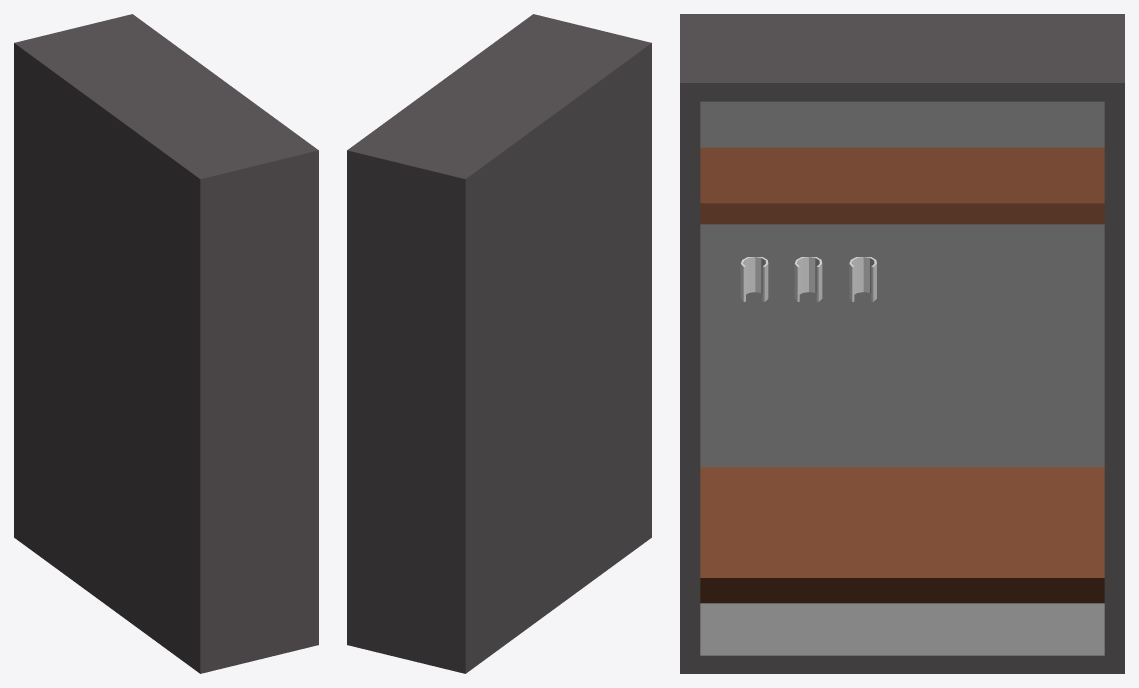
Rendered from GunLocker.fbx.
3 views of the same model, side by side, from view 1: azimuth 30°, elevation 25°; view 2: azimuth 150°, elevation 25°; view 3: azimuth 270°, elevation 25° (orthographic). The views are drawn at different scales.
Parts seen in each view (by area): view 1: Cube; view 2: Cube; view 3: Cube, Cylinder.003, Cylinder.001, Cylinder.002.
Boxes of the visible parts, bbox=[...] form: Cube: bbox=[14, 14, 318, 673]; Cube: bbox=[347, 14, 651, 673]; Cube: bbox=[680, 14, 1124, 673]; Cylinder.003: bbox=[740, 257, 768, 301]; Cylinder.001: bbox=[794, 257, 822, 301]; Cylinder.002: bbox=[849, 257, 876, 301].
Bounding box in the file's own units: 56.63 × 226 × 154.
